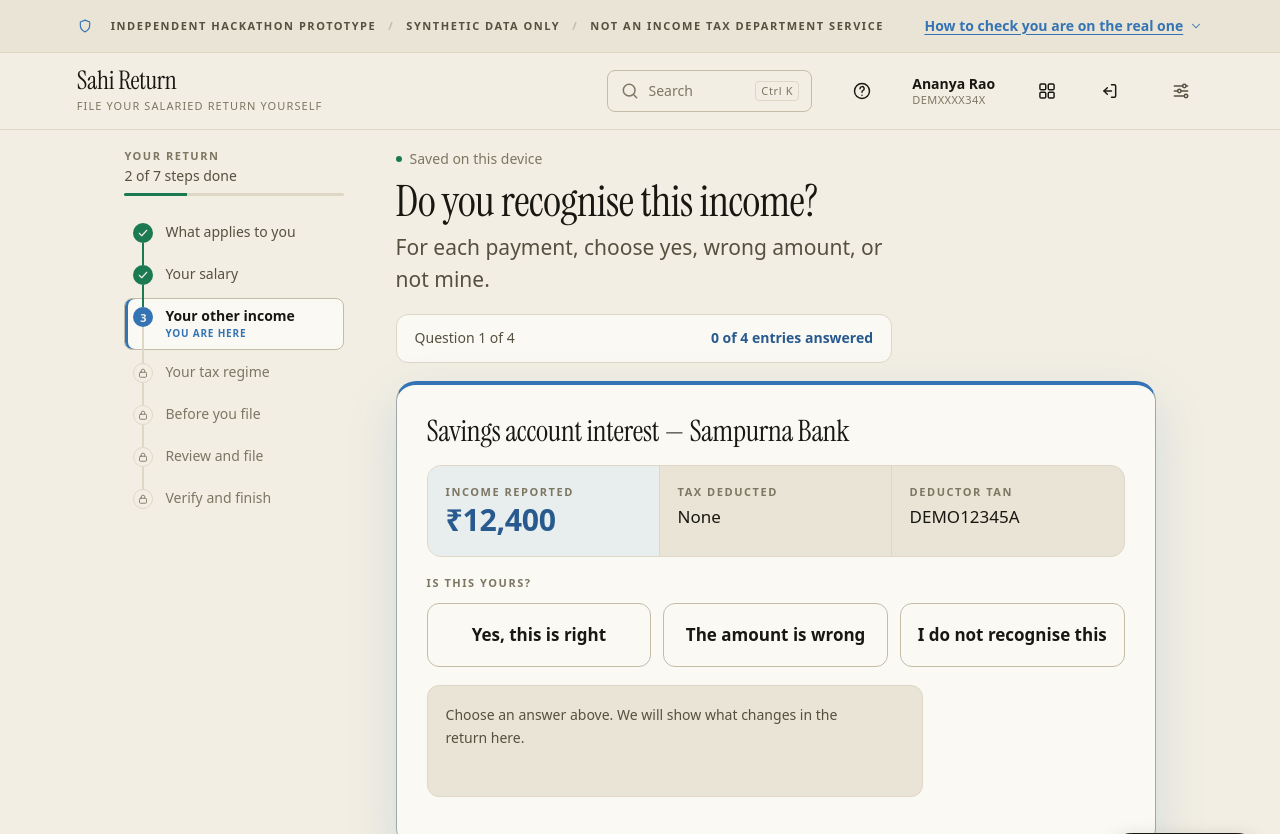
Sahi Return salaried filing journey › keeps one response region in place while an income answer changes
Check: the heading "Do you recognise this income?" is shown, box [396, 179, 852, 223]
Check: the message shows "Choose an answer above", box [446, 705, 837, 747]
Click the radio button labelled "Yes, this is right" at [539, 635], box [427, 603, 651, 667]
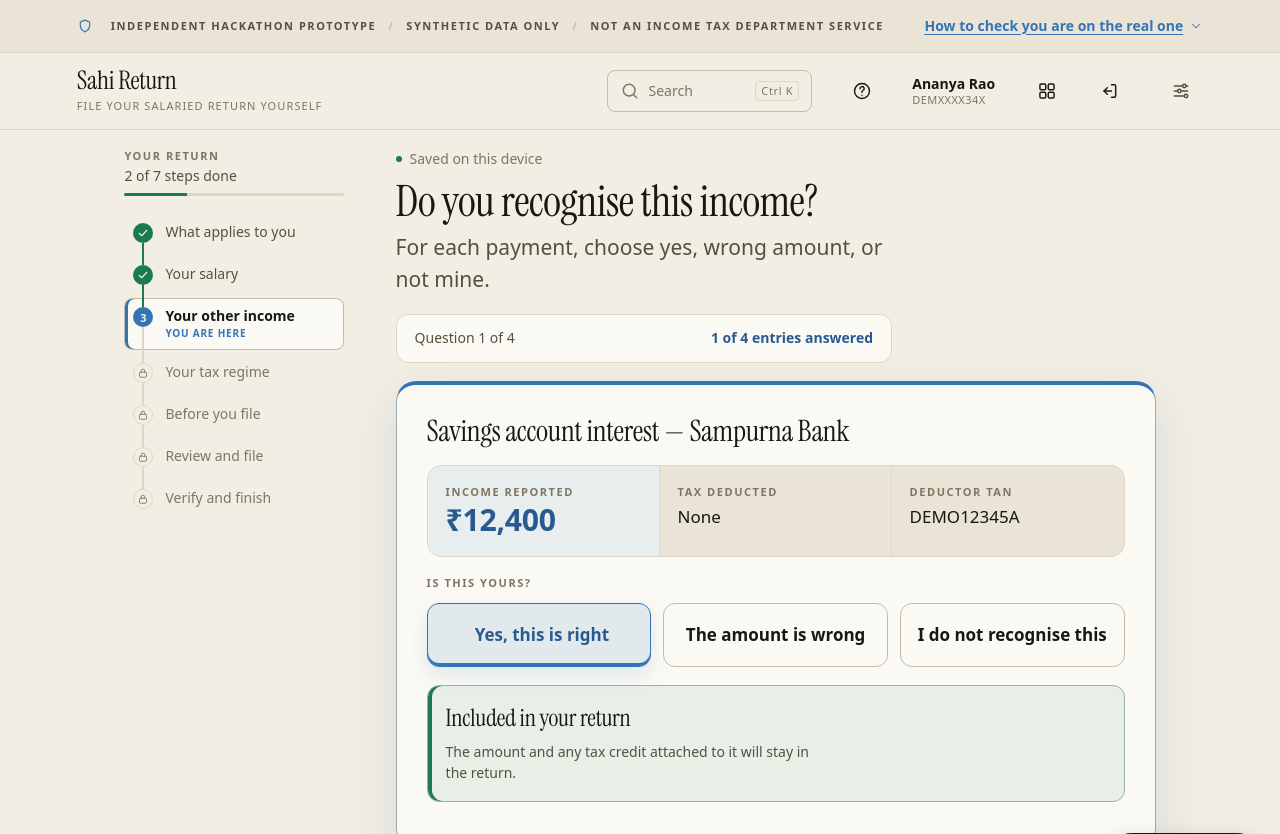
Check: the message shows "Included in your return", box [446, 702, 630, 733]
Click the radio button labelled "I do not recognise this" at [1012, 635], box [900, 603, 1125, 667]
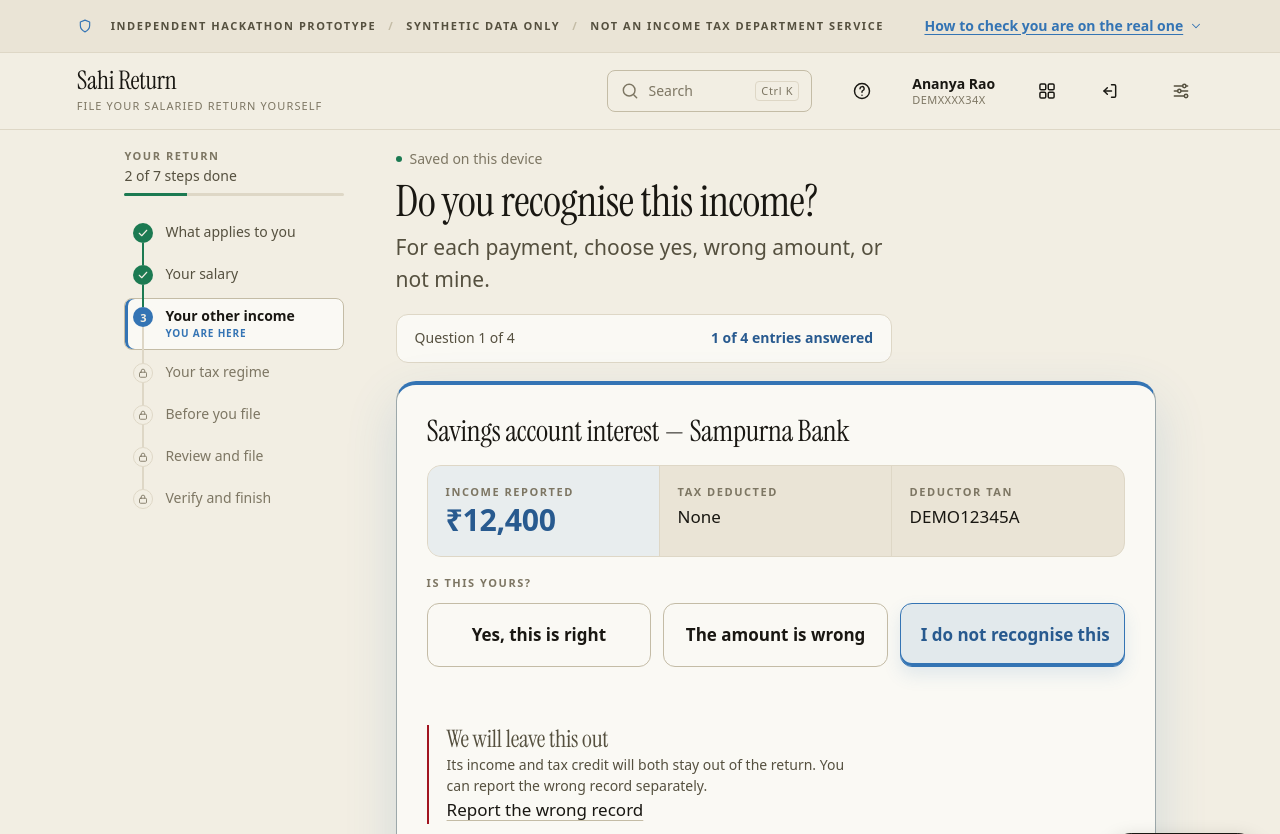
Check: the message shows "We will leave this out", box [447, 723, 608, 754]
